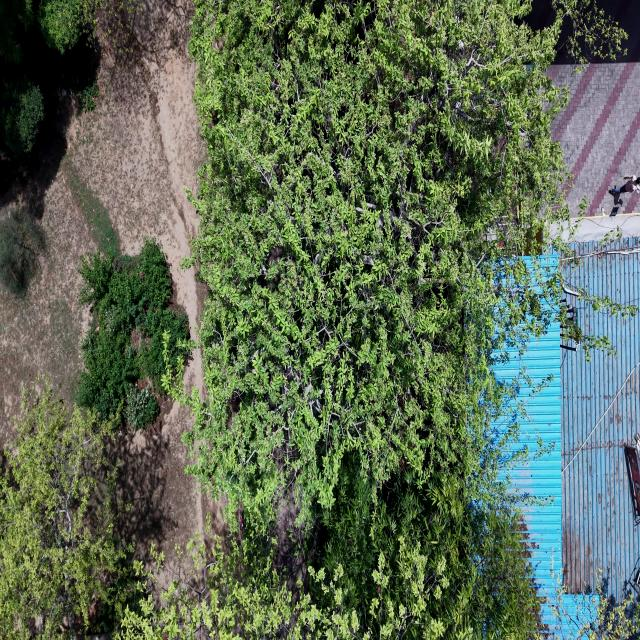DRY_AREA: (0, 0, 206, 448), (0, 2, 205, 444), (71, 5, 205, 338), (73, 51, 204, 338), (0, 173, 96, 445), (548, 0, 639, 216), (152, 55, 205, 338), (549, 59, 639, 215), (153, 56, 204, 329)
ROOFTOP_BUILDING: (496, 29, 639, 637), (496, 237, 639, 639), (494, 320, 596, 639), (560, 237, 639, 600)
VEGETATION_TREE: (0, 0, 567, 639), (182, 0, 567, 637), (187, 1, 565, 527), (0, 389, 536, 639), (0, 242, 186, 639), (115, 469, 536, 639), (0, 0, 161, 216), (0, 386, 124, 639), (0, 0, 99, 214), (77, 241, 190, 428), (96, 0, 192, 111), (0, 0, 43, 158), (36, 0, 138, 53), (65, 162, 120, 258), (552, 0, 626, 68), (0, 209, 43, 297), (0, 77, 43, 156), (578, 586, 639, 639), (560, 304, 616, 360), (38, 0, 87, 52), (0, 0, 34, 63), (124, 381, 158, 429)
